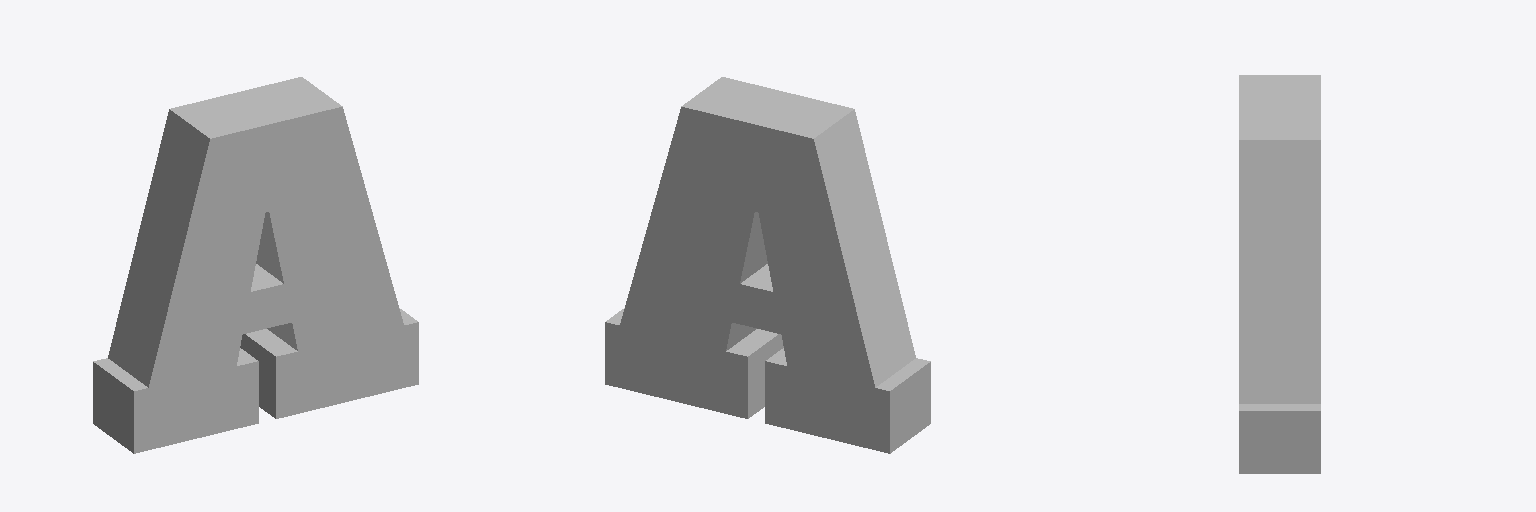
3 renders of one model, left to right at view 1: azimuth 30°, elevation 25°; view 2: azimuth 150°, elevation 25°; view 3: azimuth 270°, elevation 25°, orthographic.
Visible parts, largest first — view 1: text: ABCDEFGHIJKLMNOPQRSTUVWXYZ[number redacted]; view 2: text: ABCDEFGHIJKLMNOPQRSTUVWXYZ[number redacted]; view 3: text: ABCDEFGHIJKLMNOPQRSTUVWXYZ[number redacted].
Boxes of the visible parts, <box> form: text: ABCDEFGHIJKLMNOPQRSTUVWXYZ[number redacted]: <box>93,77,418,453</box>; text: ABCDEFGHIJKLMNOPQRSTUVWXYZ[number redacted]: <box>605,77,930,453</box>; text: ABCDEFGHIJKLMNOPQRSTUVWXYZ[number redacted]: <box>1239,75,1320,473</box>.
Size of the model in its own units: 101 by 100 by 25.